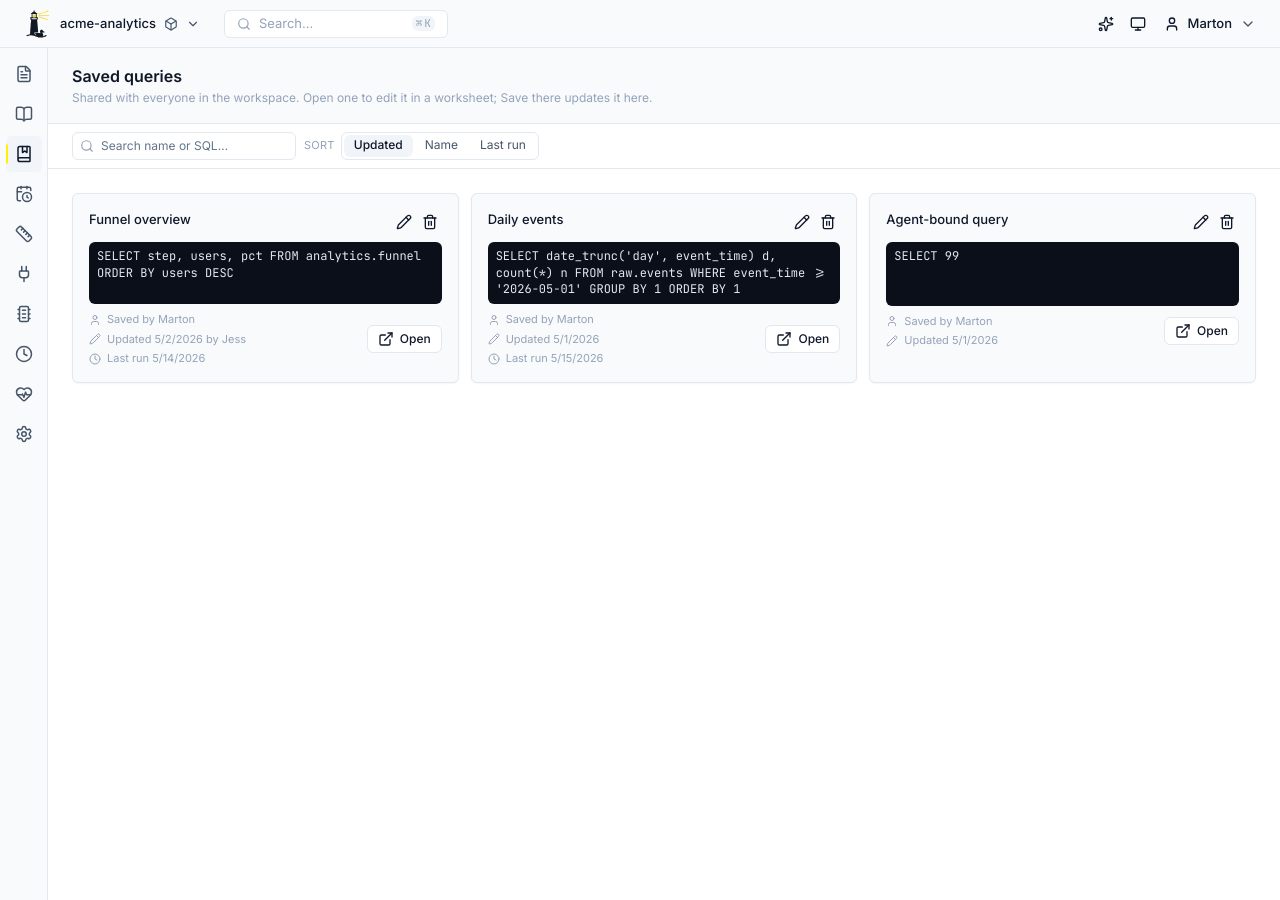
Scenario: SavedQueriesPage › "Open" opens a worksheet named for the query, on its saved agent
This screenshot has width=1280, height=900.
Click the button "Open" below "SELECT 99": (1202, 331) [1164,317,1239,345]
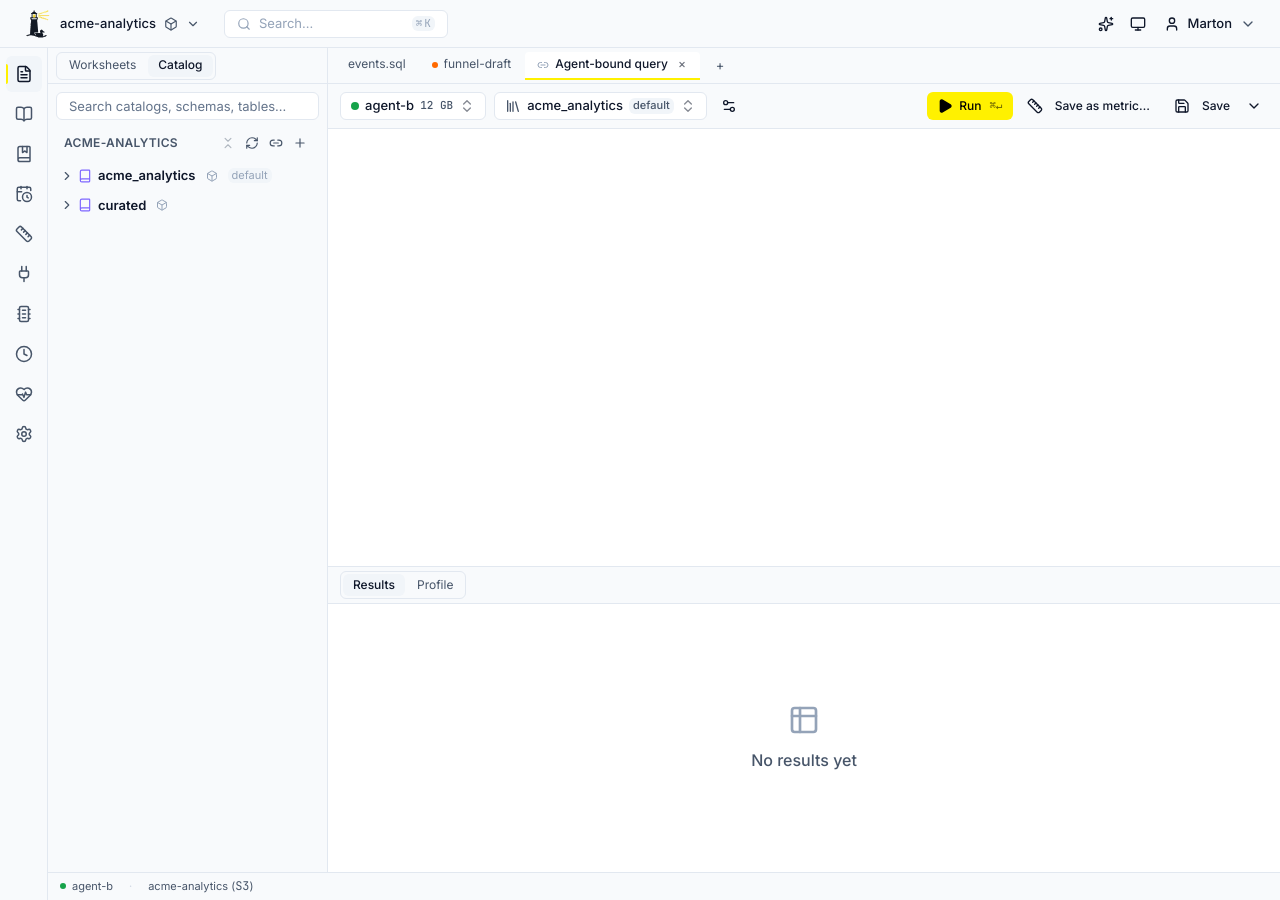
expect the dropdown named "Compute agent" shows "agent-b": met, box [340,92,486,120]
